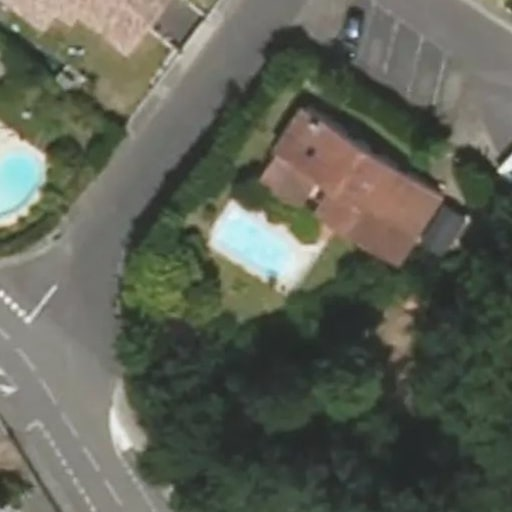pool: (208, 201, 319, 287), (1, 145, 41, 230)
